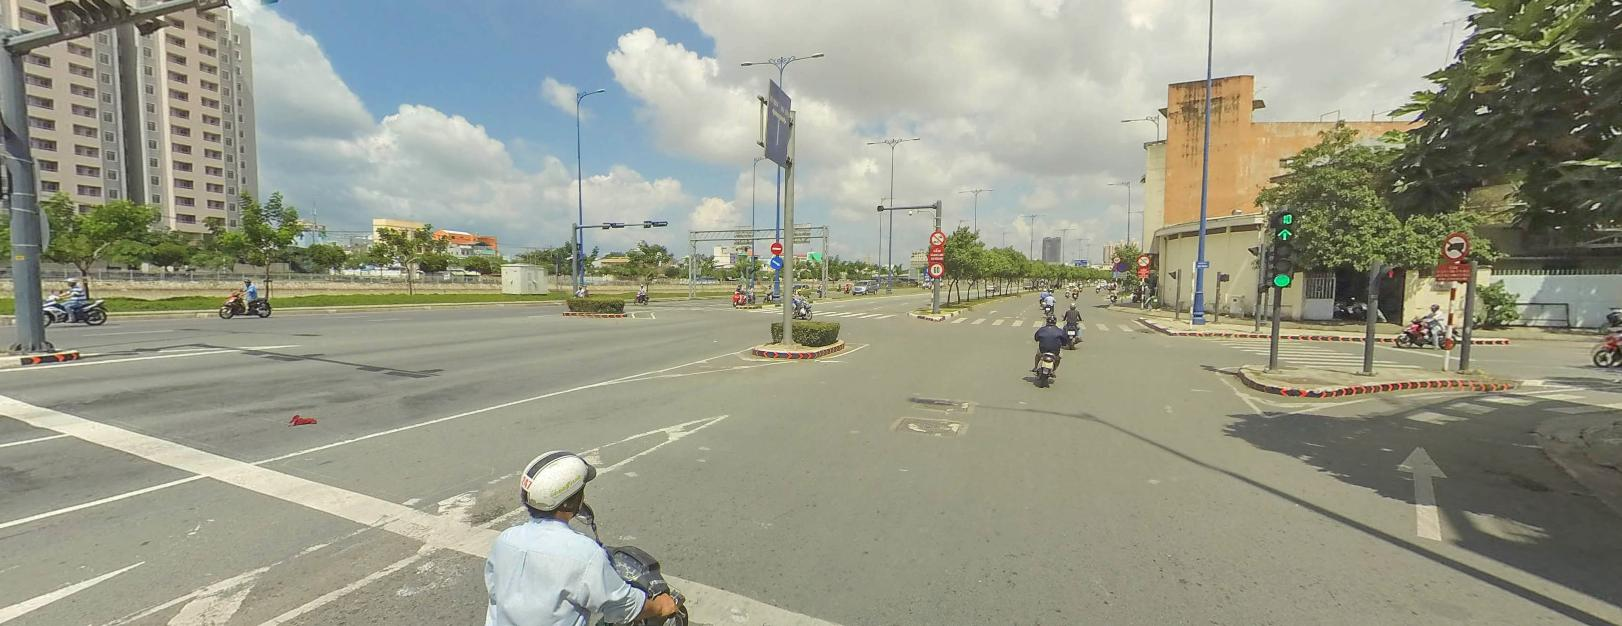Cam con lai: (1442, 229, 1468, 260), (929, 228, 945, 243), (1136, 254, 1149, 265), (1113, 254, 1119, 261)
Cam dung va do: (1117, 261, 1127, 269)
Cam nguoc chieu: (770, 241, 782, 254)
Gioi han toc do: (927, 260, 945, 276)
Hieu lenh: (769, 254, 782, 267)
